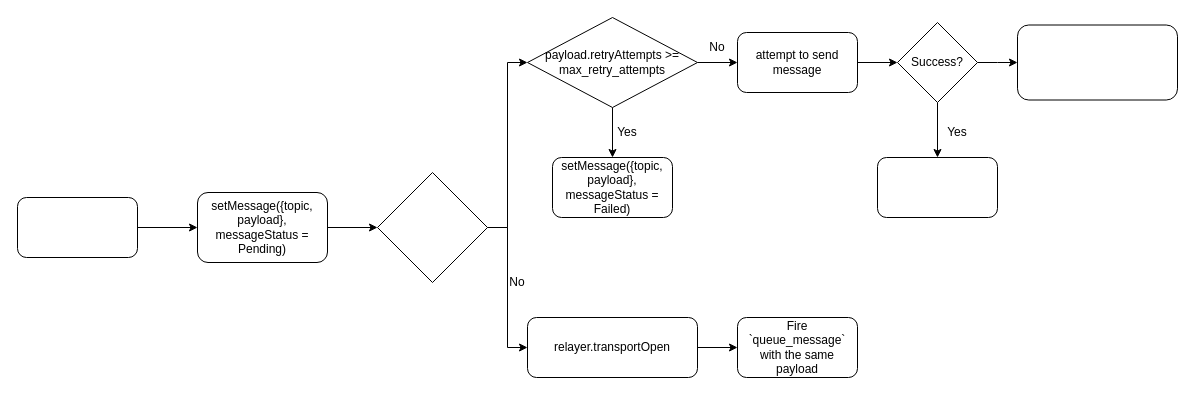
Image size: 1195x395. Some labels were removed from this diagram. The centre of each missing label's shape, as x and y in pixels:
"Receive Message Payload and Topic" belongs at point (77, 227).
"relayer.connected?" belongs at point (432, 227).
"setMessage({topic, payload}, messageStatus = Delivered)" belongs at point (937, 187).
"setMessage({topic, payload}, messageStatus = Pending, retryAttempts += 1 )" belongs at point (1097, 62).
